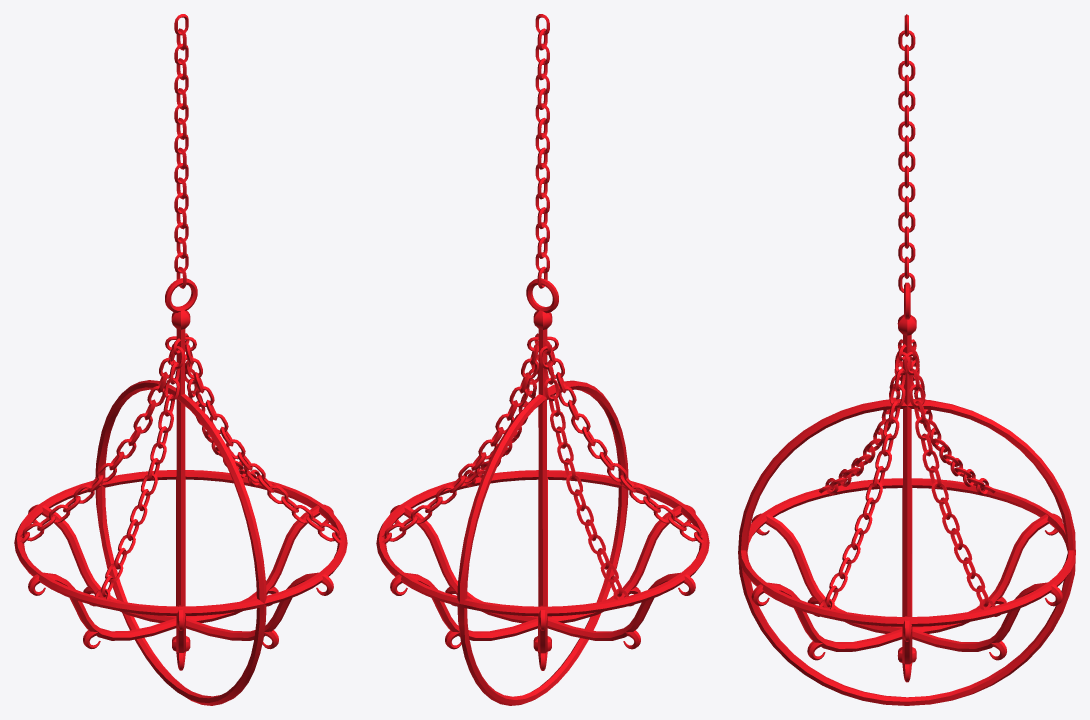
Rendered from dfk_chandelier_01.fbx.
3 renders of one model, left to right at view 1: azimuth 30°, elevation 25°; view 2: azimuth 150°, elevation 25°; view 3: azimuth 270°, elevation 25°, orthographic.
Parts seen in each view (by area): view 1: Chandelier, Chain_chandelier; view 2: Chandelier, Chain_chandelier; view 3: Chandelier, Chain_chandelier.
Part boxes in pixels (x1,y1,x2,y2): Chandelier: (14,278,347,705); Chain_chandelier: (20,14,341,599); Chandelier: (376,278,709,705); Chain_chandelier: (382,14,703,599); Chandelier: (738,282,1075,705); Chain_chandelier: (819,14,995,609).
Bounding box in the file's own units: 1.37 × 2.93 × 1.3.
